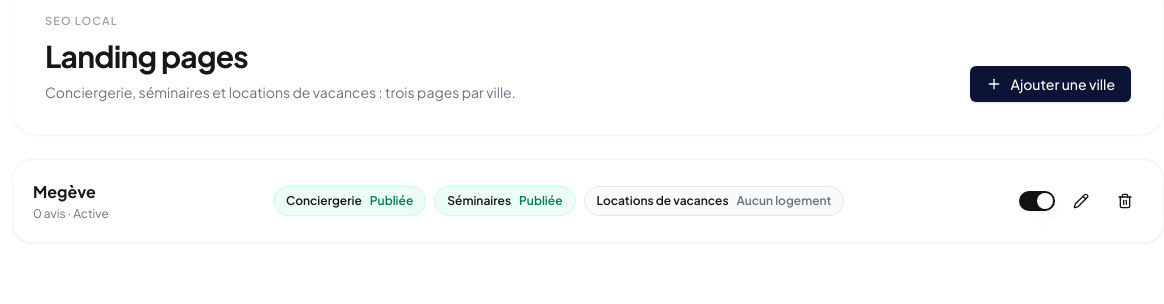
Test: 048 / 076 admin landing list › AC-04 updates publication statuses from the successful API response
Click the switch named "Archiver Megève". click: (1037, 200)
box: [1019,190,1055,210]
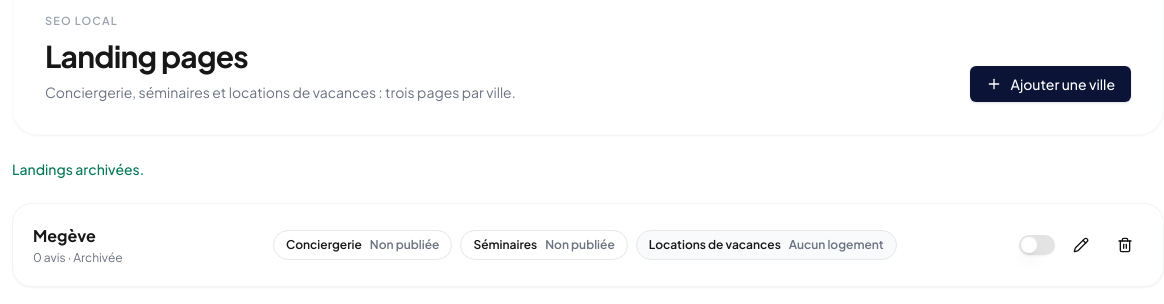
Check: the text "Non publiée" is shown 2 times, box [370,236,439,252]; [545,236,615,252]
Check: the switch named "Activer Megève" is not checked, box [1019,234,1055,254]
Check: the message reads "Landings archivées.", box [12,160,144,178]
